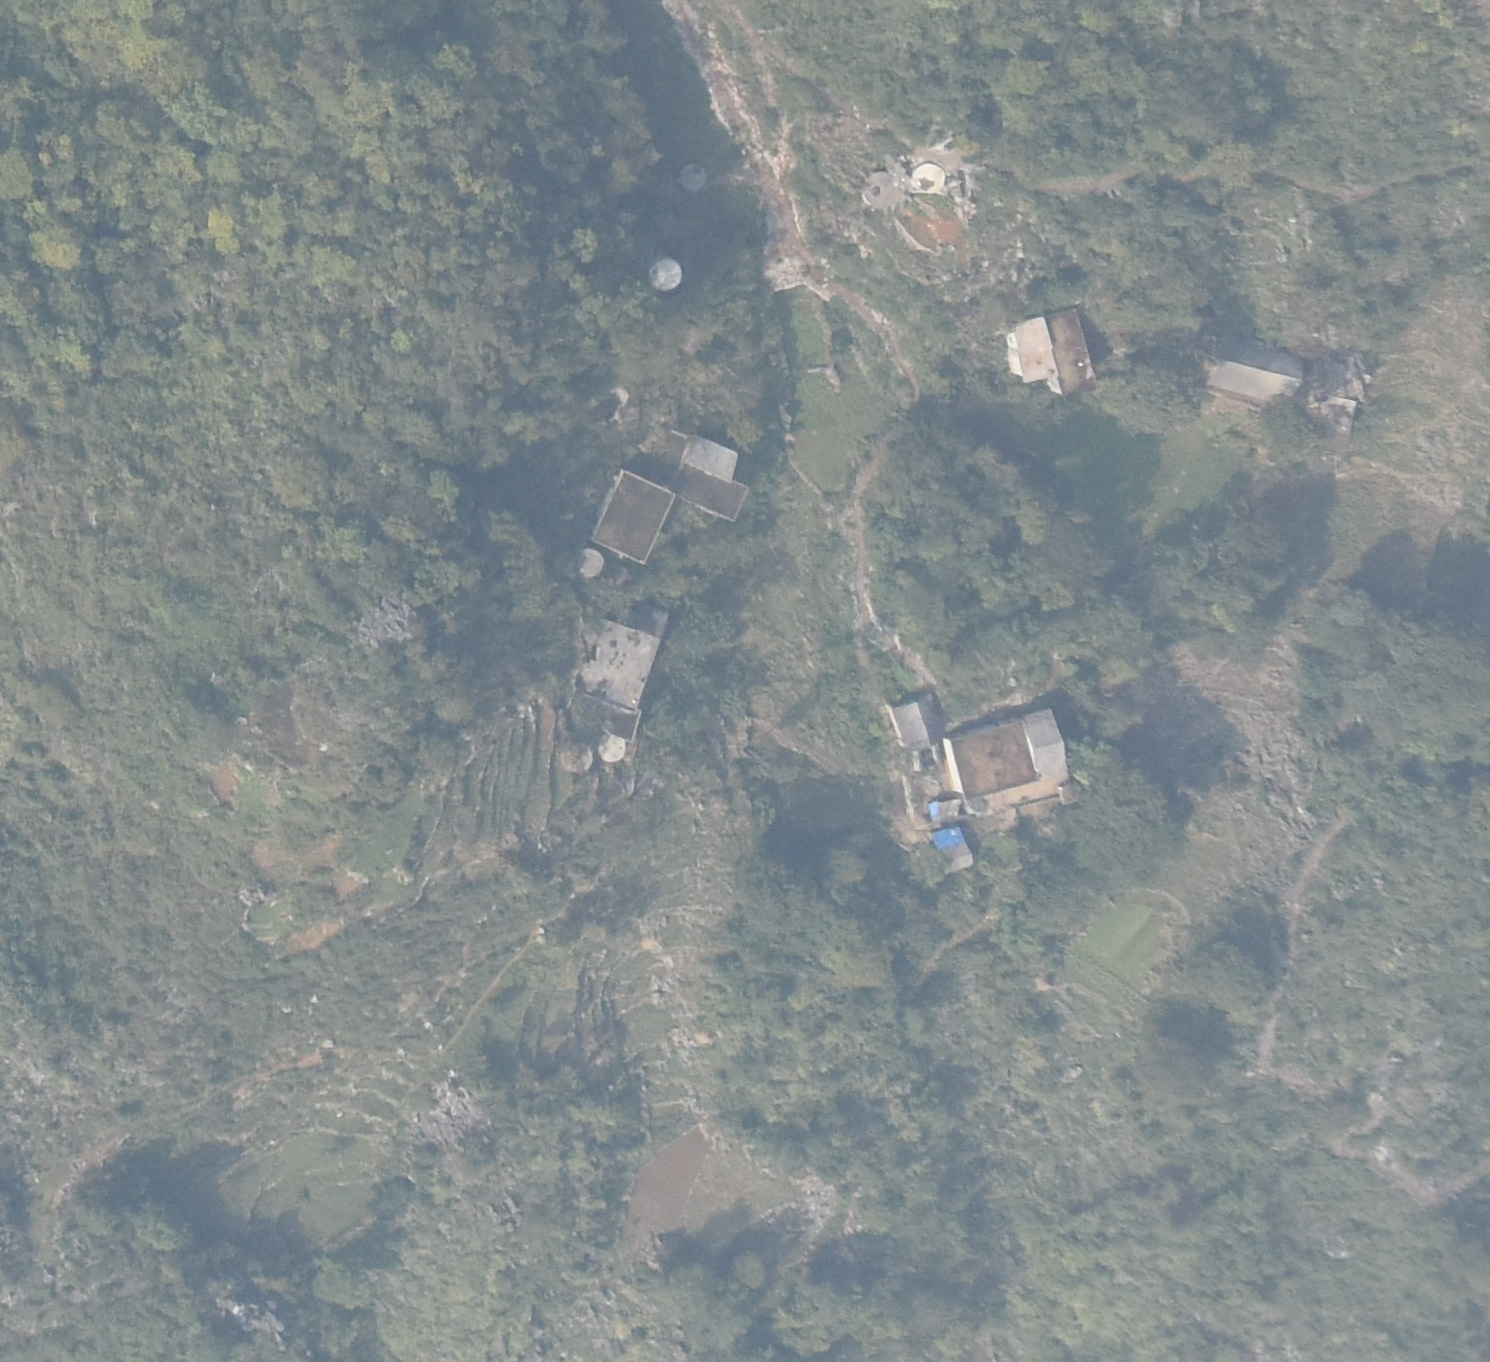building: (565, 597, 676, 715), (938, 708, 1079, 799), (591, 460, 681, 569), (999, 304, 1098, 404), (1202, 325, 1308, 408), (670, 431, 750, 525), (886, 693, 955, 747)
well: (640, 248, 690, 293), (861, 167, 906, 216), (906, 158, 949, 195), (672, 161, 713, 193), (574, 549, 609, 579)
